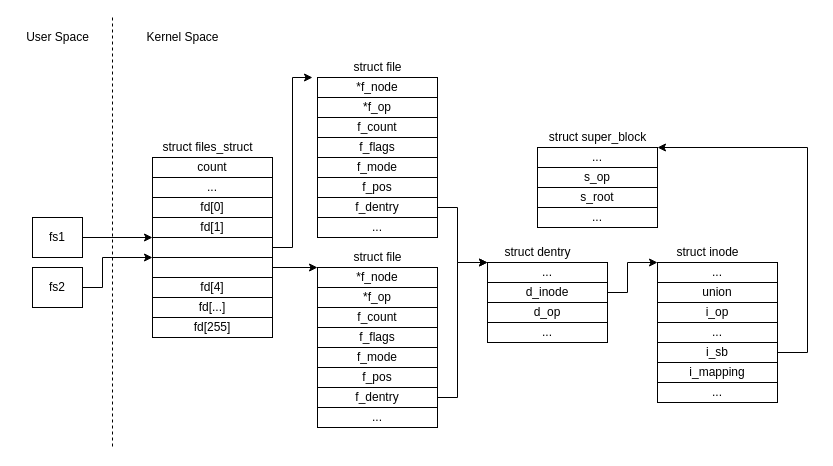
Image size: 833x466. Some labels were removed from this diagram. Here are the shapes that lost their labels. From the top down, the centre of each, then its label:
At pixel 212 247: "fd[2]".
At pixel 212 267: "fd[3]".
